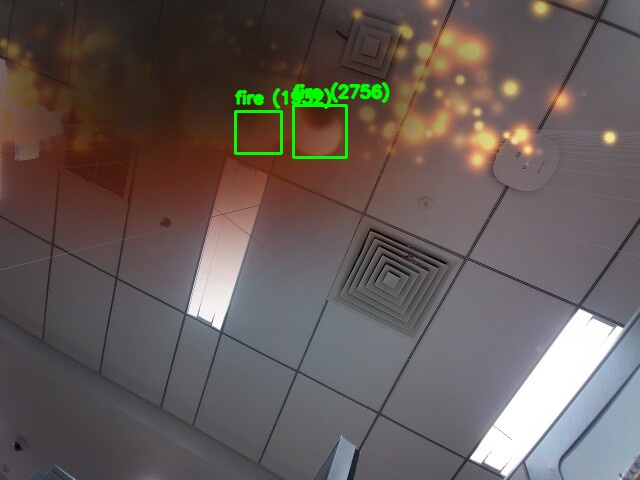fire: (293, 105, 346, 157), (235, 111, 281, 153)
